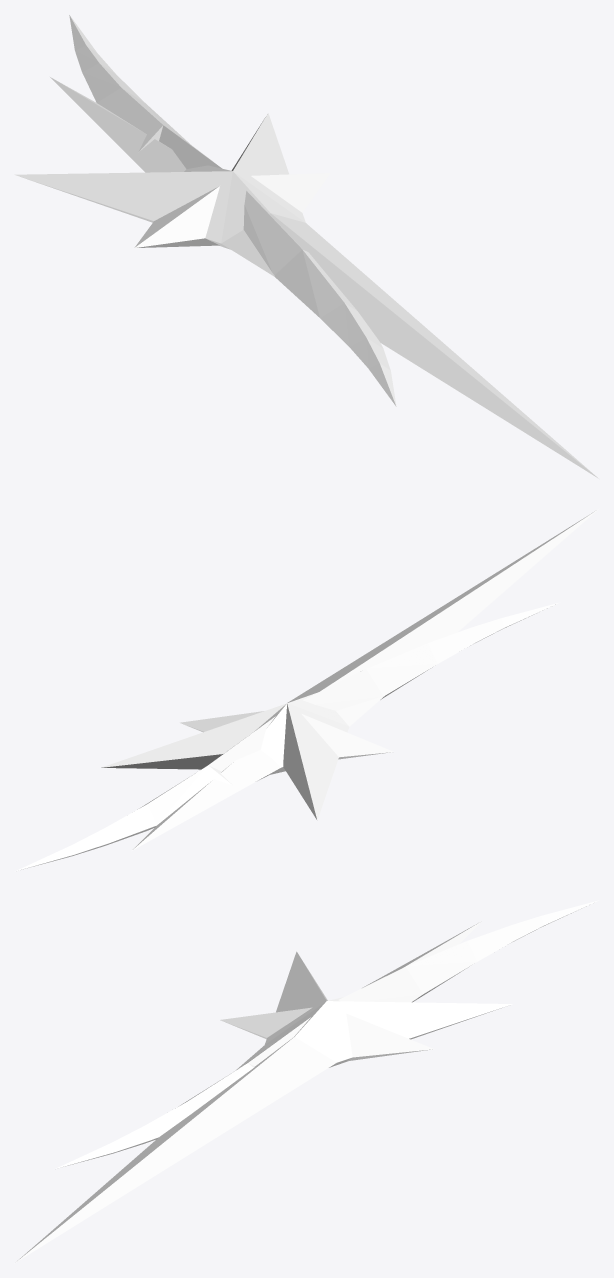
3 renders of one model, top to bottom at view 1: azimuth 30°, elevation 25°; view 2: azimuth 150°, elevation 25°; view 3: azimuth 330°, elevation 25°, orthographic. The views are drawn at different scales.
Visible parts, largest first — view 1: ss, sb; view 2: ss, sb; view 3: ss, sb.
Part boxes in pixels (x1,y1,x2,y2): ss: [14, 77, 598, 478]; sb: [69, 15, 396, 406]; ss: [101, 508, 599, 850]; sb: [15, 603, 558, 871]; ss: [14, 921, 512, 1263]; sb: [55, 900, 598, 1168].
Size of the model in its own units: 120 by 35.8 by 498.
